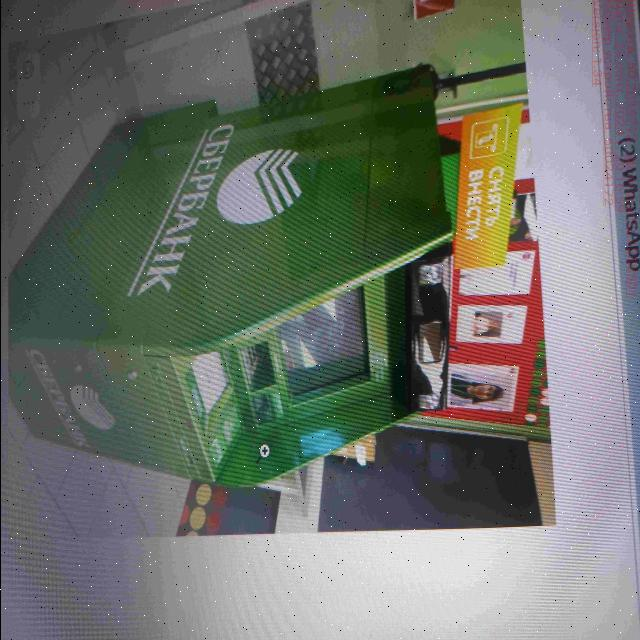bank: (13, 56, 456, 490)
